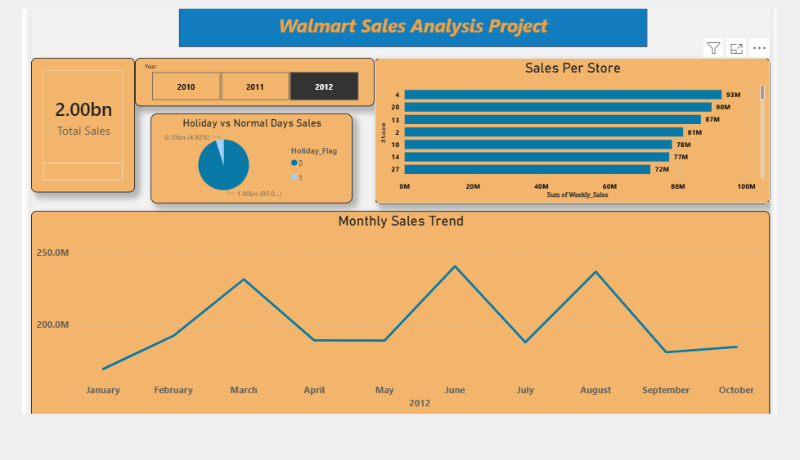

This screenshot's page, from the dashboard's own definition file:
{"tool":"powerbi","page":{"name":"Page 1","canvas":[1280,720],"ordinal":0},"visuals":[{"type":"cardVisual","fields":{"Data":["Sum(Walmart_Sales.Weekly_Sales)"]},"box":[0,94.4,180.2,233.1],"z":0},{"type":"lineChart","title":"Monthly Sales Trend","fields":{"Category":["Walmart_Sales.Date.Variation.Date Hierarchy.Year","Walmart_Sales.Date.Variation.Date Hierarchy.Month"],"Y":["Sum(Walmart_Sales.Weekly_Sales)"]},"box":[0,359.5,1280,361.2],"z":1000},{"type":"slicer","fields":{"Values":["Walmart_Sales.Date.Variation.Date Hierarchy.Year"]},"box":[180.2,94.4,414.7,84.4],"z":2000},{"type":"pieChart","title":"Holiday vs Normal Days Sales","fields":{"Category":["Walmart_Sales.Holiday_Flag"],"Y":["Sum(Walmart_Sales.Weekly_Sales)"]},"box":[207.4,191.6,350.4,155.9],"z":3000},{"type":"clusteredBarChart","title":"Sales Per Store","fields":{"Category":["Walmart_Sales.Store"],"Y":["Sum(Walmart_Sales.Weekly_Sales)"]},"box":[594.9,94.4,685.1,253.1],"z":4000},{"type":"shape","box":[256,0,810.9,75.8],"z":5000}]}

Visuals, with their boxes in screenshot pixels (x1, y1, x2, y2), scaled from the page's 1280x720 canvas onto the 800x460 screenshot:
cardVisual - Sum(Walmart_Sales.Weekly_Sales): [left=0, top=60, right=113, bottom=209]
"Monthly Sales Trend" lineChart: [left=0, top=230, right=799, bottom=459]
slicer - Walmart_Sales.Date.Variation.Date Hierarchy.Year: [left=113, top=60, right=372, bottom=114]
"Holiday vs Normal Days Sales" pieChart: [left=130, top=122, right=349, bottom=222]
"Sales Per Store" clusteredBarChart: [left=372, top=60, right=799, bottom=222]
shape: [left=160, top=0, right=667, bottom=48]
